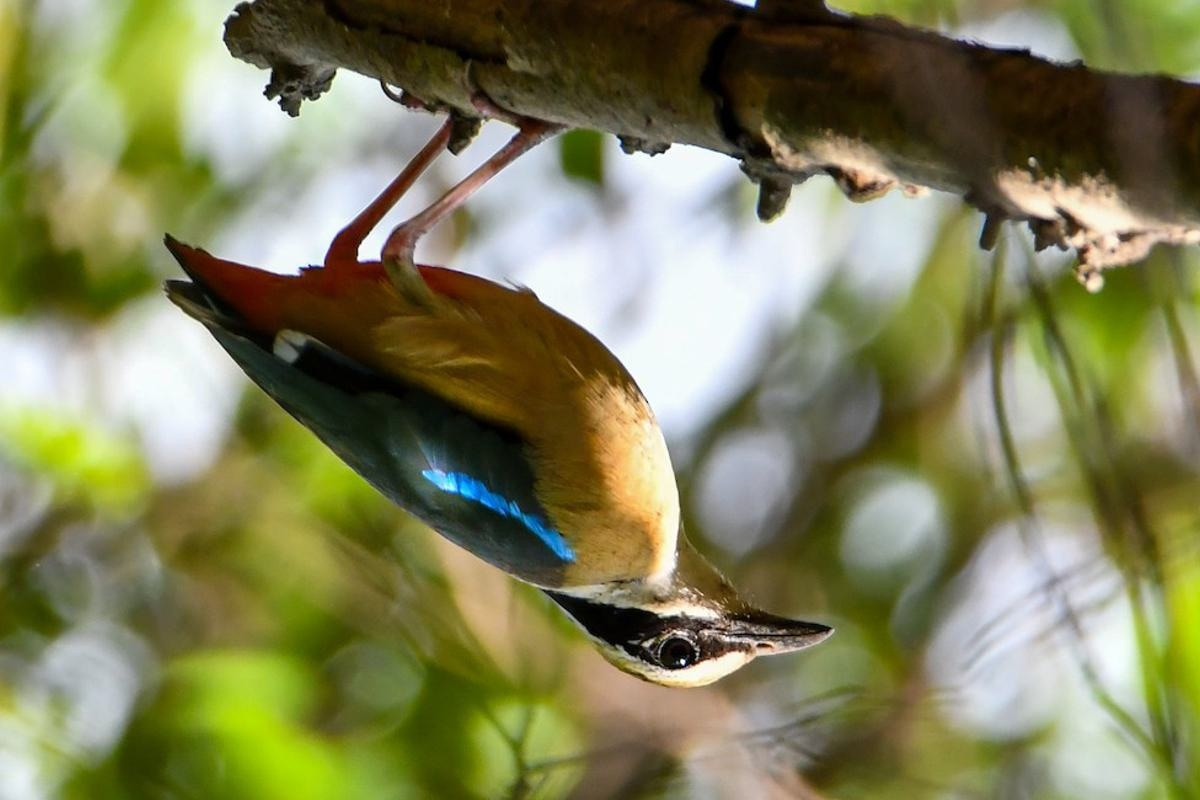pitta: (174, 90, 849, 705)
